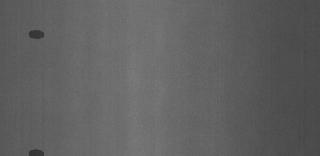oil spot: (27, 29, 45, 42), (26, 146, 46, 156)
